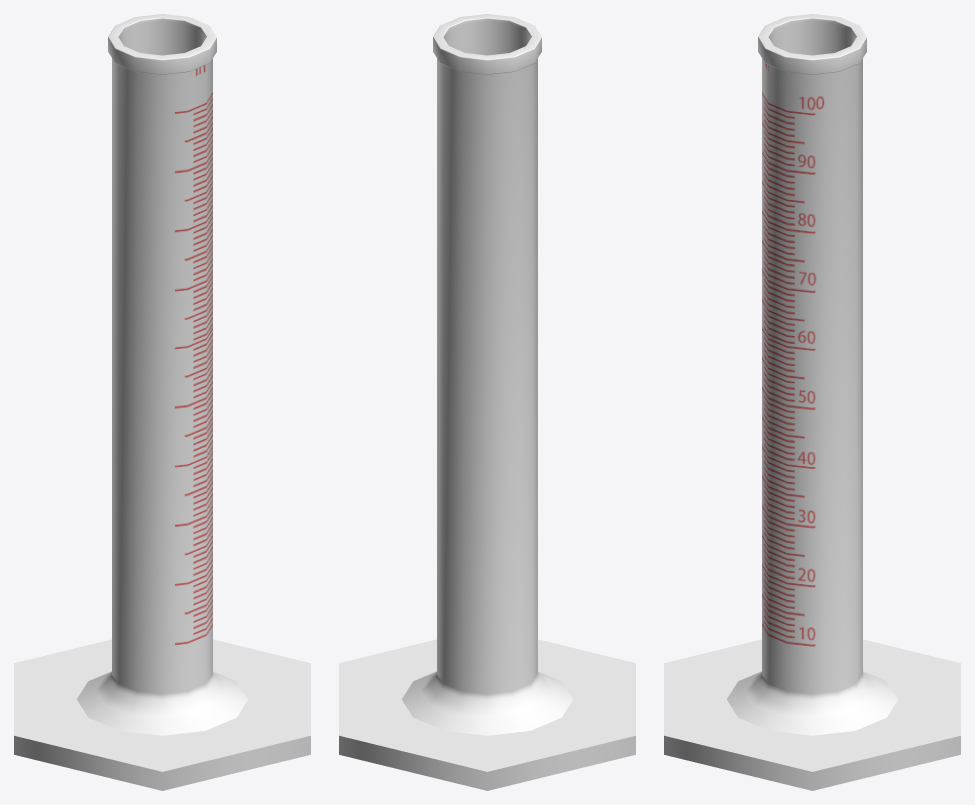
3 views of the same model, side by side, from view 1: azimuth 30°, elevation 25°; view 2: azimuth 150°, elevation 25°; view 3: azimuth 270°, elevation 25° (orthographic).
Parts seen in each view (by area): view 1: Cylinder002, 量筒; view 2: Cylinder002, 量筒; view 3: Cylinder002, 量筒.
Part boxes in pixels (<box>): Cylinder002: <box>77,14,247,735</box>; 量筒: <box>14,639,310,790</box>; Cylinder002: <box>402,14,572,735</box>; 量筒: <box>339,639,635,790</box>; Cylinder002: <box>727,14,897,735</box>; 量筒: <box>664,639,960,790</box>.
Bounding box in the file's own units: 0.2199 × 0.4825 × 0.1904.
Materials: 1 (1 with a texture image).
